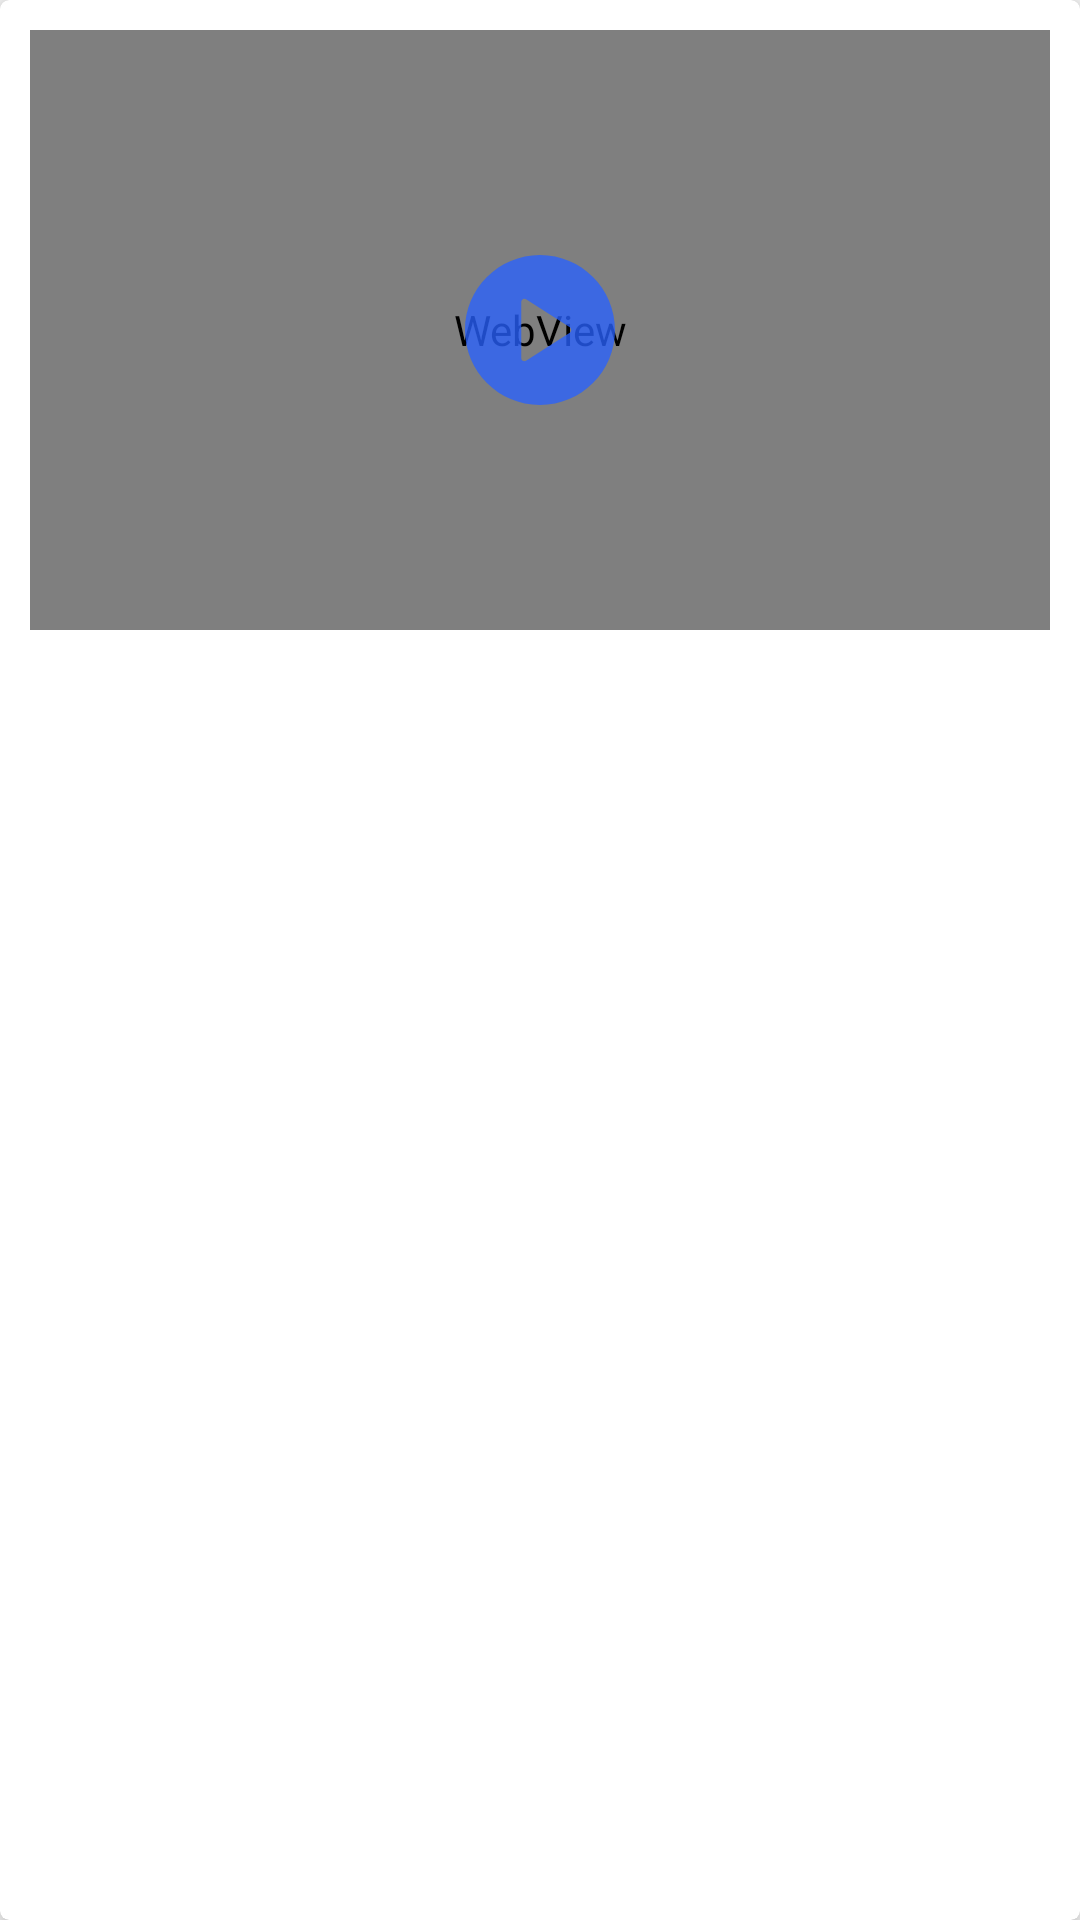

Icons on this 1080 × 1920 Android screen, each with the point to tap as (x=x, y=y):
play: (x=540, y=330)
